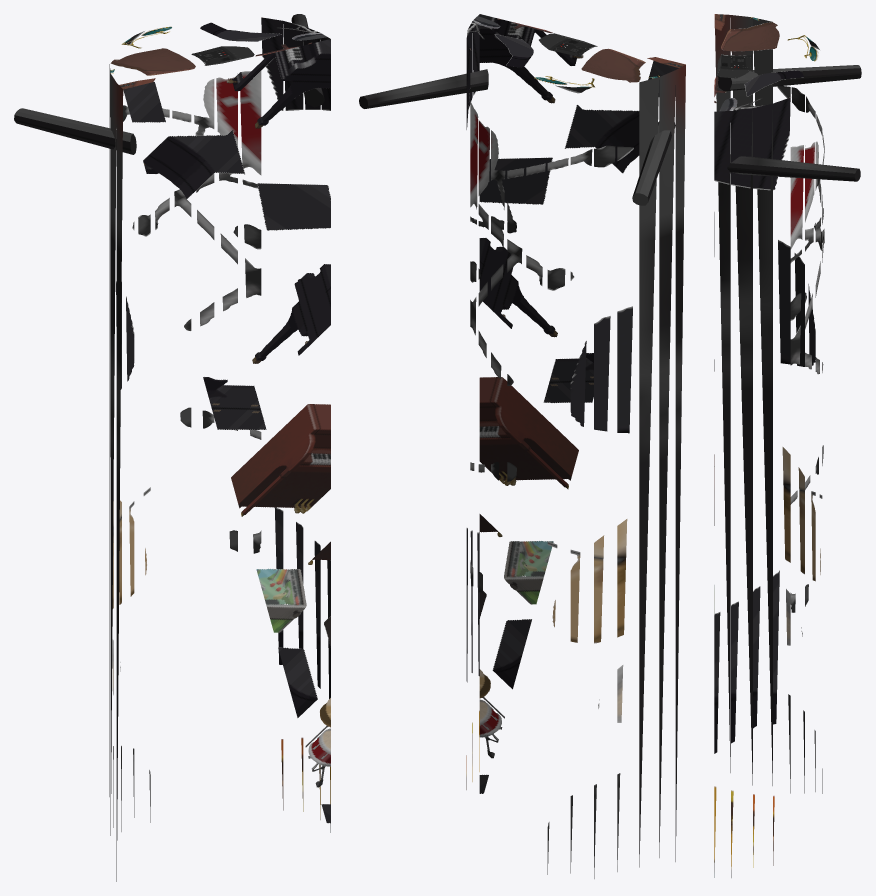
The picture shows the model from 3 angles, left to right: view 1: azimuth 30°, elevation 25°; view 2: azimuth 150°, elevation 25°; view 3: azimuth 270°, elevation 25°; orthographic projection. The views are drawn at different scales.
Bounding box in the file's own units: 0.7601 × 1.99 × 0.3445.
